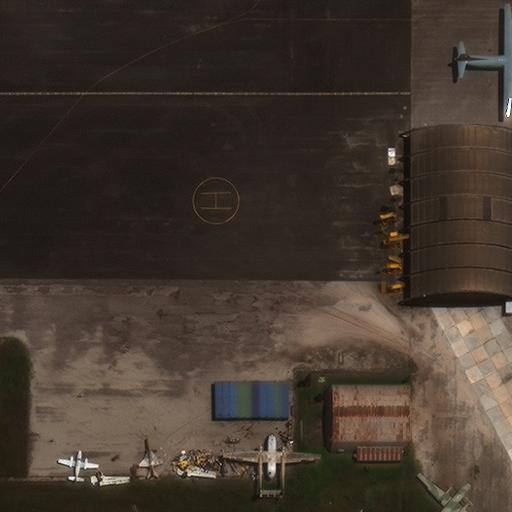Military Fighter: (137, 438, 162, 477), (126, 440, 151, 478)
Military Transport: (453, 4, 512, 116), (224, 433, 321, 497), (420, 473, 479, 511)
Small Civil Transport: (59, 450, 98, 482)
